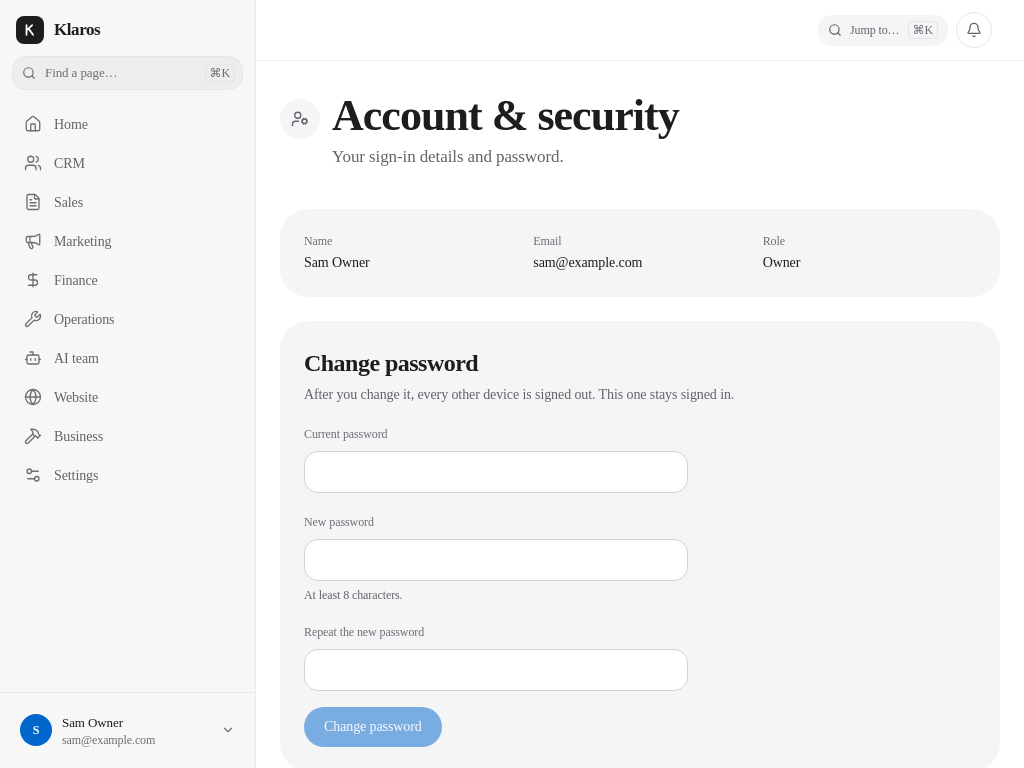
Scenario: Account & security › tells the person when the current password is wrong
In the password field labelled "Current password": [496, 472] box [304, 451, 688, 493], type "old-password-1"
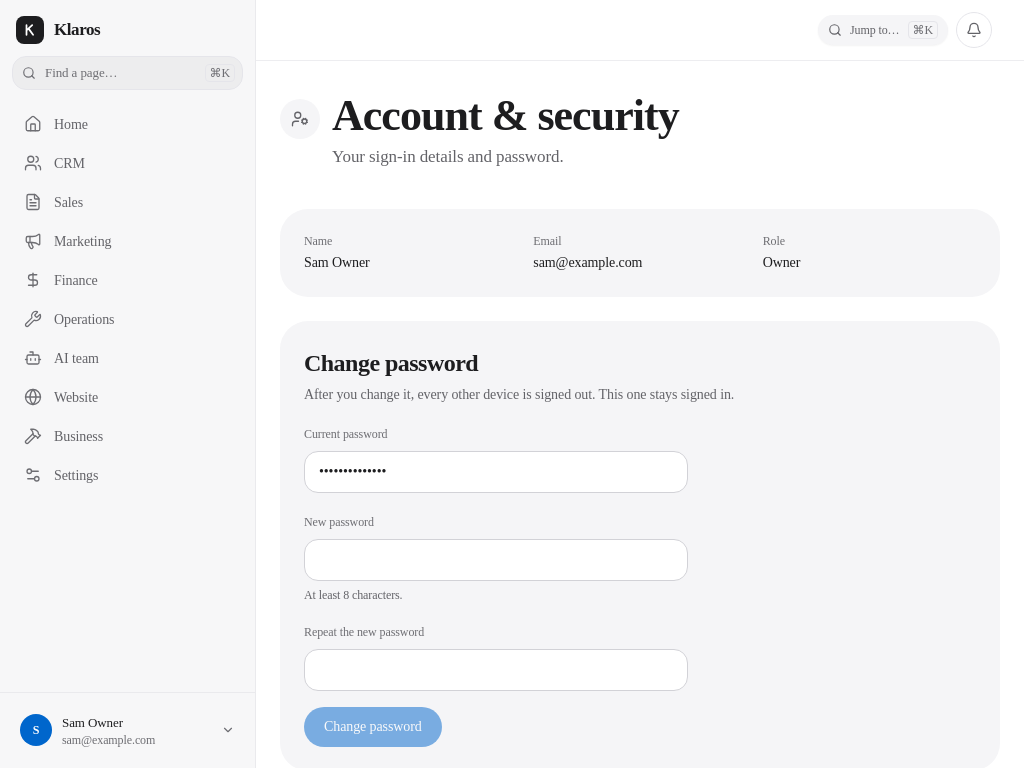
In the password field labelled "New password": [496, 560] box [304, 539, 688, 581], type "a-much-better-one"
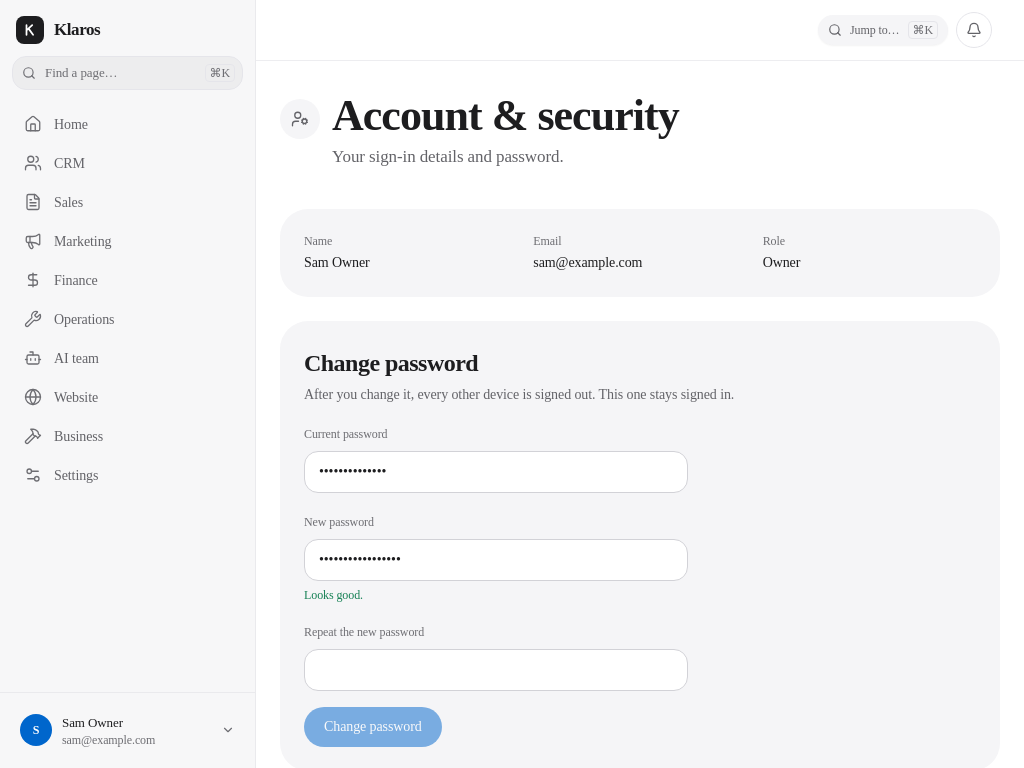
In the password field labelled "Repeat the new password": [496, 670] box [304, 649, 688, 691], type "a-much-better-one"
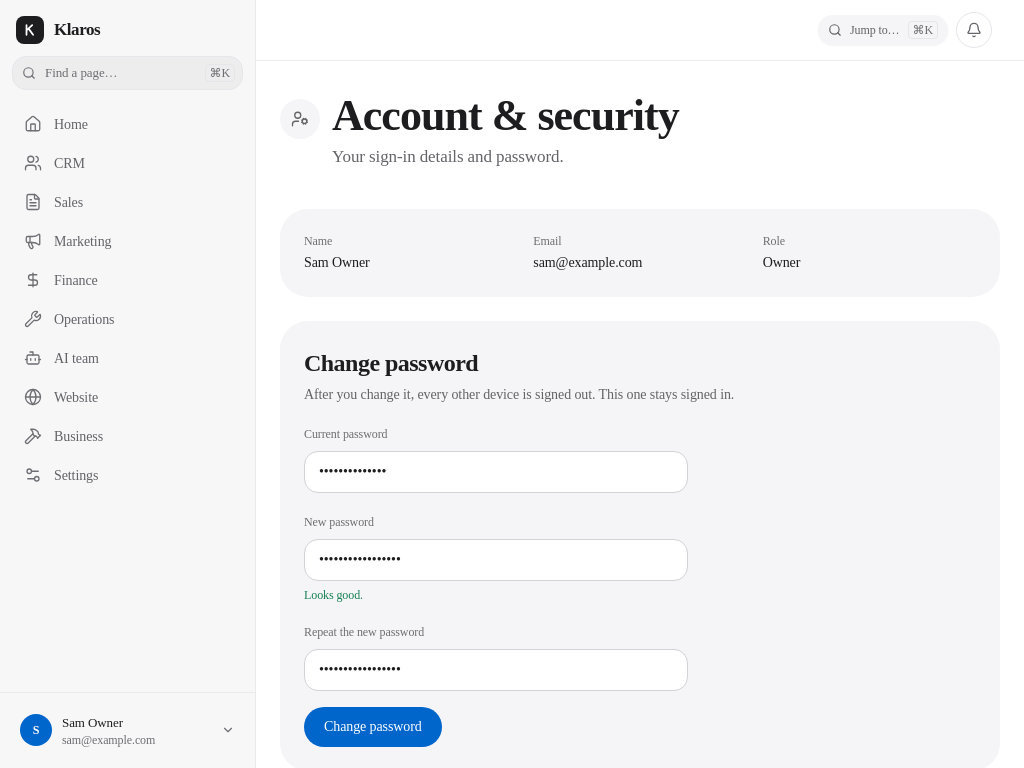
Click the button "Change password": [373, 727] box [304, 707, 442, 747]
(page scrolled)
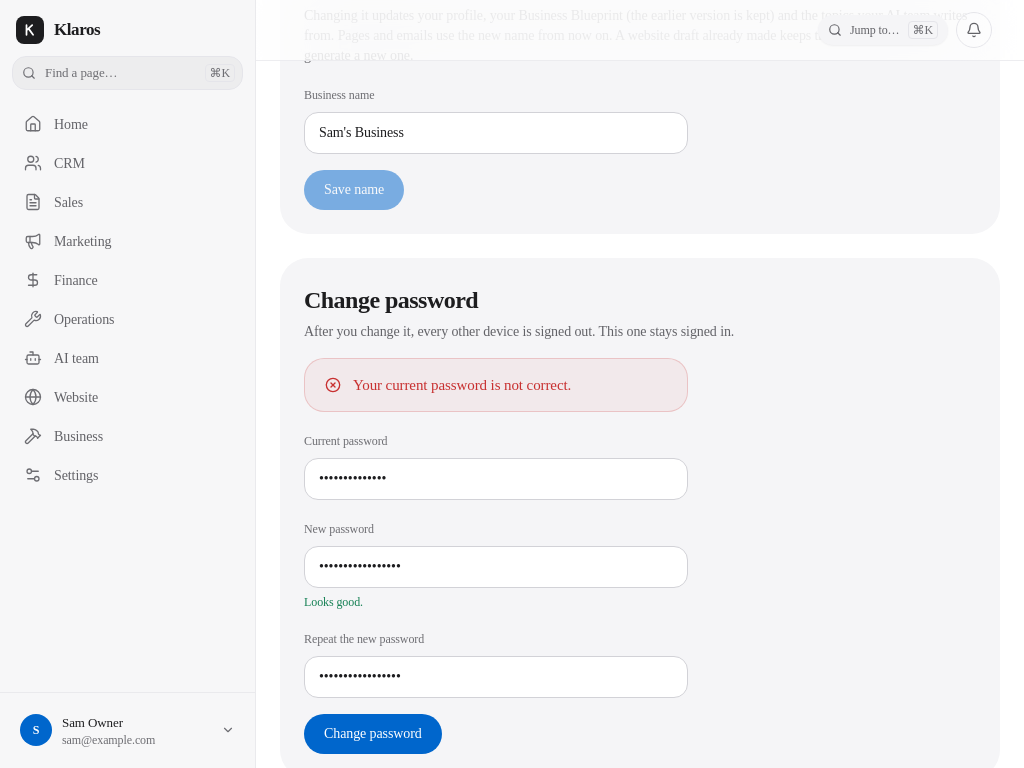
expect the message shows "current password is not correct": met, box [353, 377, 571, 393]
